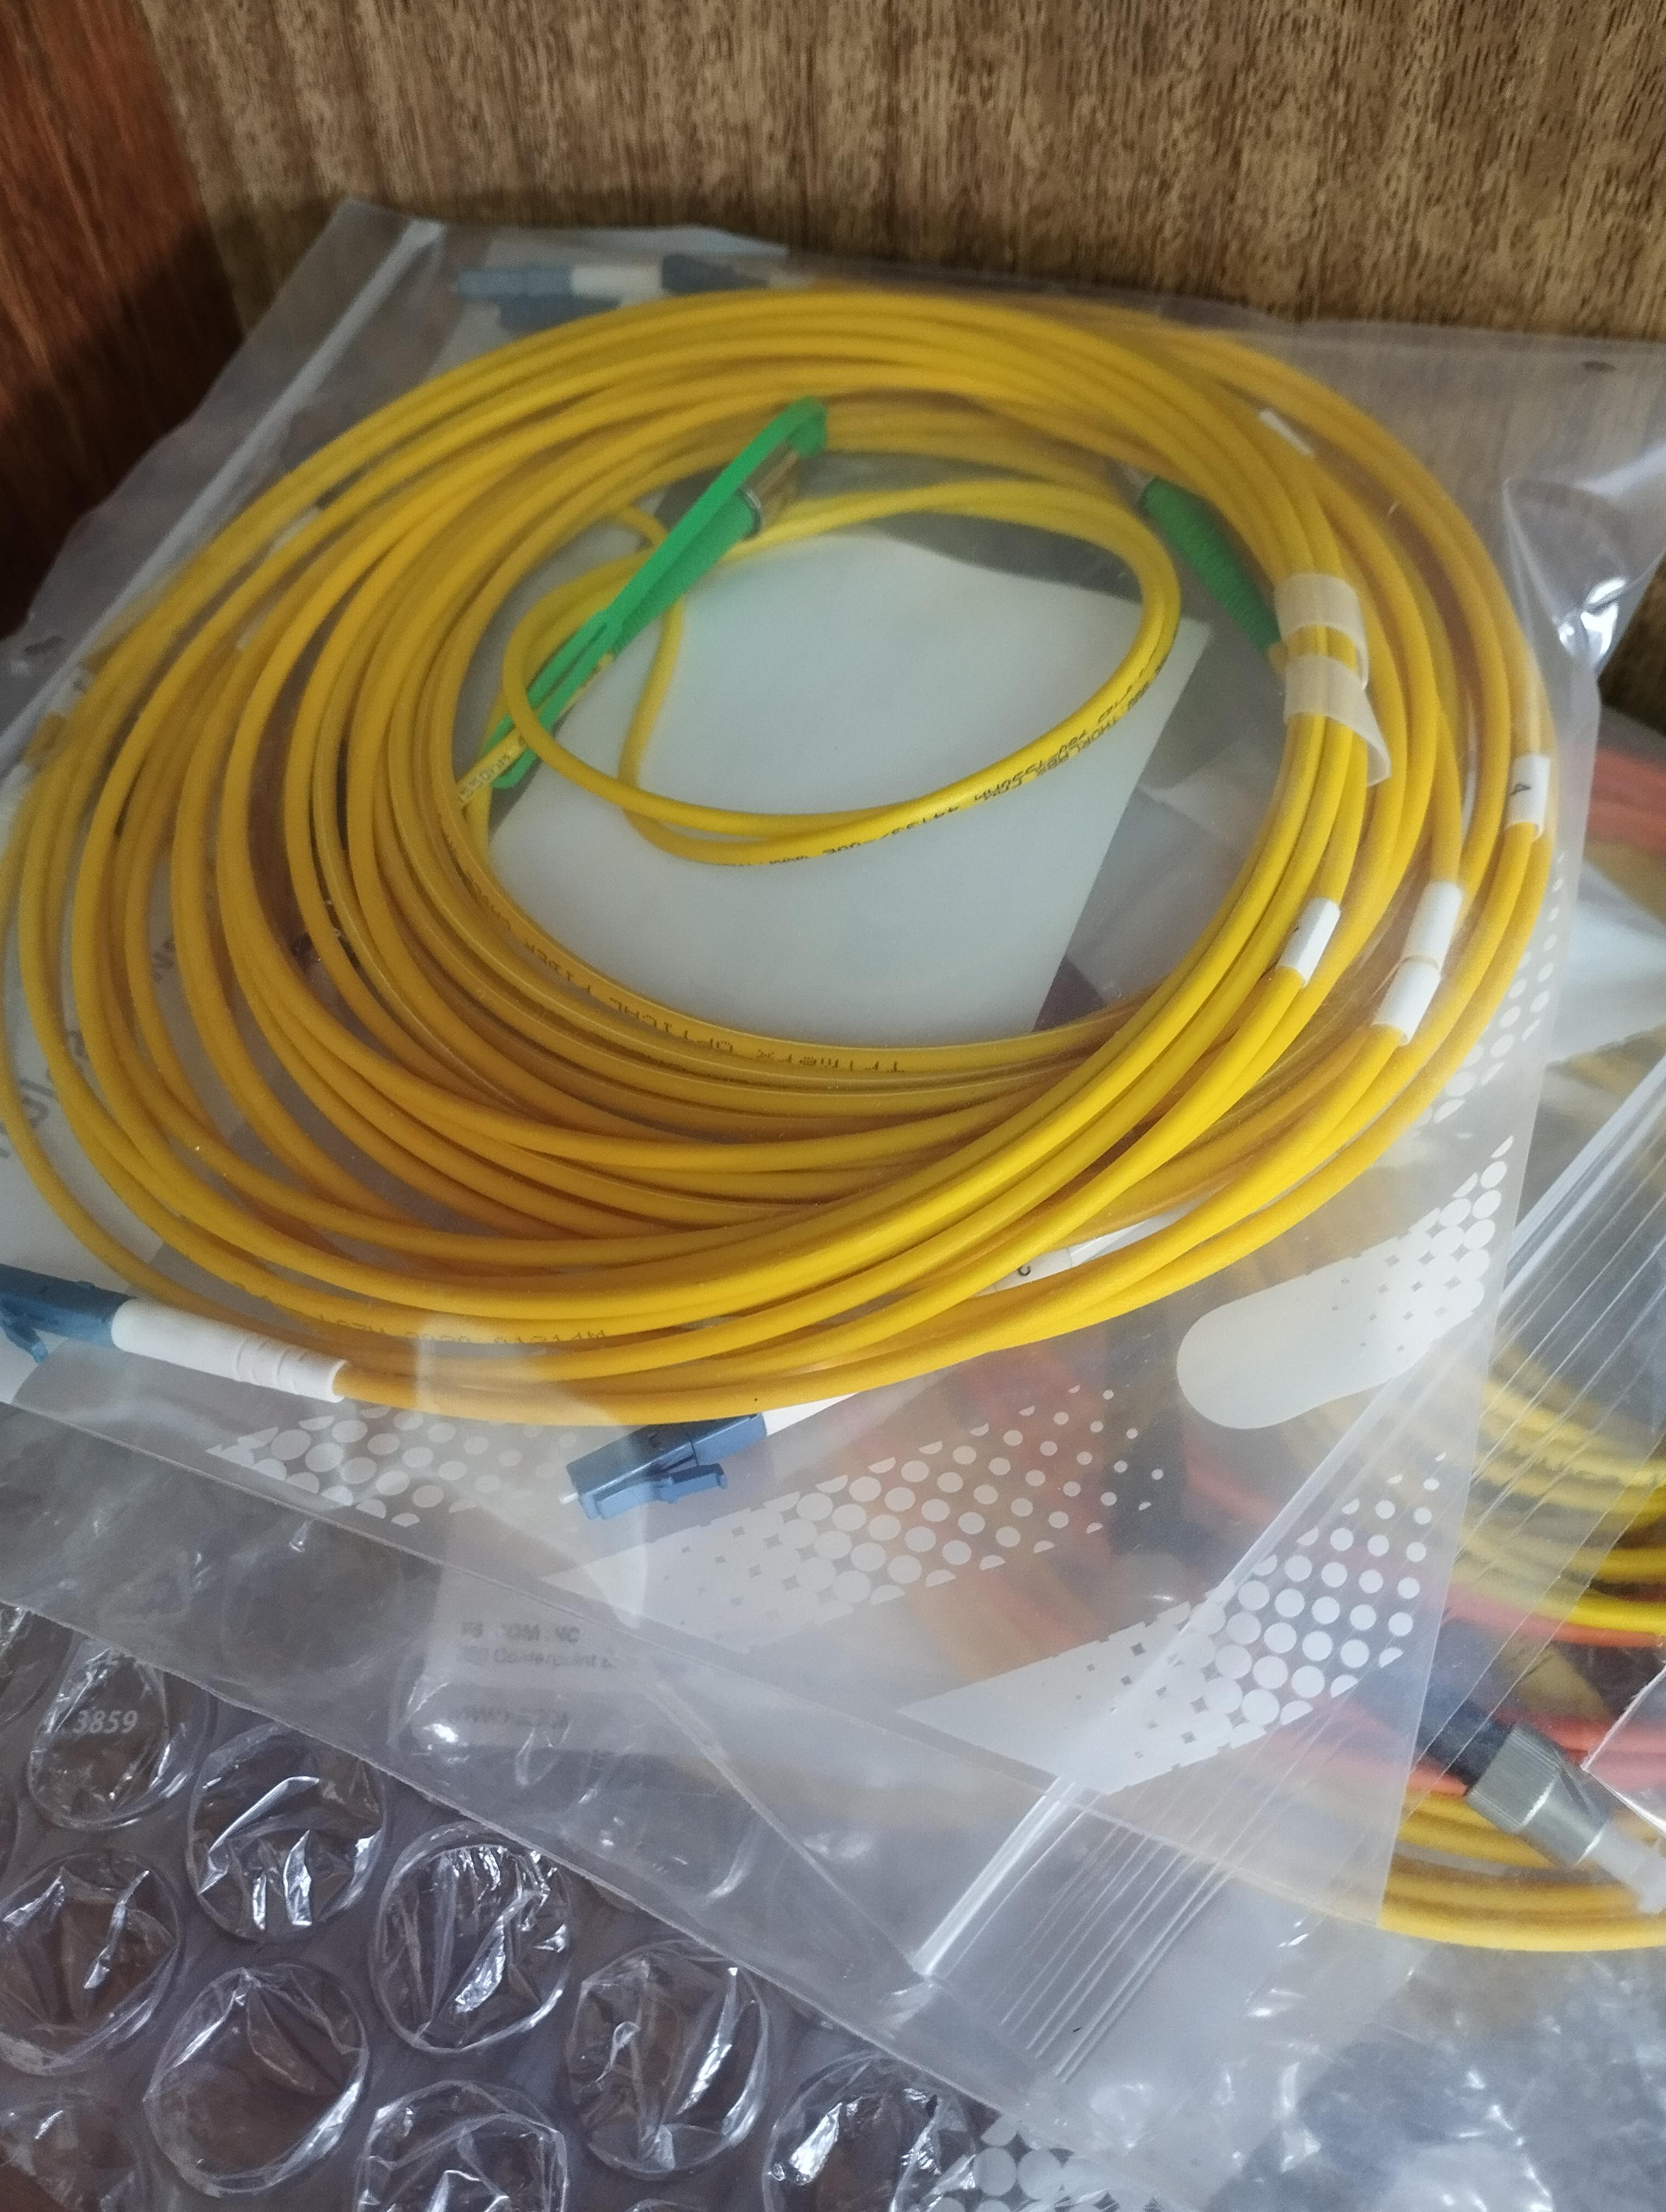fiber_cable: (0, 243, 1603, 1534)
